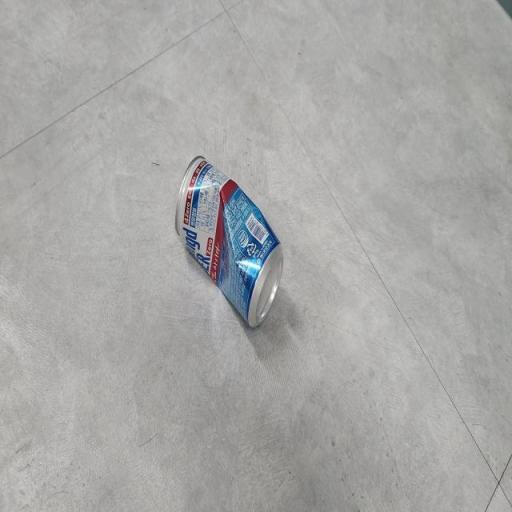metal: (164, 137, 293, 346)
